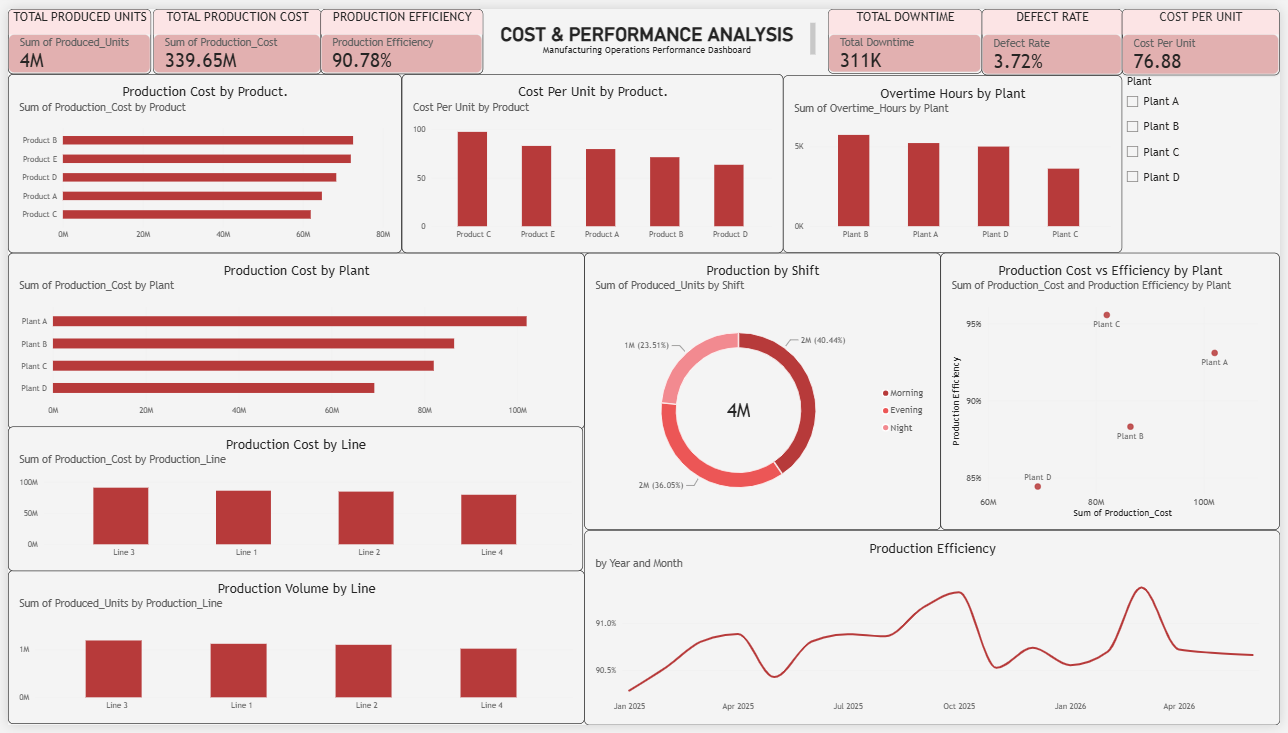

The dashboard page shown, as its layout file describes it:
{"tool":"powerbi","page":{"name":"Cost & Performance Analysis.","canvas":[1920,1080],"ordinal":1},"visuals":[{"type":"clusteredBarChart","title":"Production Cost by Plant","fields":{"Category":["manufacturing_operations_synthetic_5000_12vars.Plant"],"Y":["Sum(manufacturing_operations_synthetic_5000_12vars.Production_Cost)"]},"box":[0,368,870,266],"z":0},{"type":"clusteredBarChart","title":"Production Cost by Product.","fields":{"Category":["manufacturing_operations_synthetic_5000_12vars.Product"],"Y":["Sum(manufacturing_operations_synthetic_5000_12vars.Production_Cost)"]},"box":[0,98,594,270],"z":1000},{"type":"clusteredColumnChart","title":"Production Volume by Line","fields":{"Category":["manufacturing_operations_synthetic_5000_12vars.Production_Line"],"Y":["Sum(manufacturing_operations_synthetic_5000_12vars.Produced_Units)"]},"box":[0,848,870,232],"z":2000},{"type":"donutChart","title":"Production by Shift","fields":{"Category":["manufacturing_operations_synthetic_5000_12vars.Shift"],"Y":["Sum(manufacturing_operations_synthetic_5000_12vars.Produced_Units)"]},"box":[870,368,538,418],"z":3000},{"type":"lineChart","fields":{"Category":["manufacturing_operations_synthetic_5000_12vars.Date.Variation.Date Hierarchy.Year","manufacturing_operations_synthetic_5000_12vars.Date.Variation.Date Hierarchy.Month"],"Y":["manufacturing_operations_synthetic_5000_12vars.Production Efficiency"]},"box":[870,786,1050,294],"z":4000},{"type":"clusteredColumnChart","title":"Cost Per Unit by Product.","fields":{"Category":["manufacturing_operations_synthetic_5000_12vars.Product"],"Y":["manufacturing_operations_synthetic_5000_12vars.Cost Per Unit"]},"box":[594,98,576,270],"z":5000},{"type":"scatterChart","title":"Production Cost vs Efficiency by Plant","fields":{"Category":["manufacturing_operations_synthetic_5000_12vars.Plant"],"X":["Sum(manufacturing_operations_synthetic_5000_12vars.Production_Cost)"],"Y":["manufacturing_operations_synthetic_5000_12vars.Production Efficiency"]},"box":[1408,368,512,418],"z":7000},{"type":"clusteredColumnChart","title":"Overtime Hours by Plant","fields":{"Category":["manufacturing_operations_synthetic_5000_12vars.Plant"],"Y":["Sum(manufacturing_operations_synthetic_5000_12vars.Overtime_Hours)"]},"box":[1170,100,512,268],"z":8000},{"type":"clusteredColumnChart","title":"Production Cost by Line","fields":{"Category":["manufacturing_operations_synthetic_5000_12vars.Production_Line"],"Y":["Sum(manufacturing_operations_synthetic_5000_12vars.Production_Cost)"]},"box":[0,630,868,218],"z":9000},{"type":"textbox","box":[718,20,500,55.7],"z":10000},{"type":"cardVisual","title":"TOTAL PRODUCED UNITS","fields":{"Data":["Sum(manufacturing_operations_synthetic_5000_12vars.Produced_Units)"]},"box":[0,0,216,98],"z":11000},{"type":"cardVisual","title":"TOTAL PRODUCTION COST","fields":{"Data":["Sum(manufacturing_operations_synthetic_5000_12vars.Production_Cost)"]},"box":[218,0,254,98],"z":12000},{"type":"cardVisual","title":"PRODUCTION EFFICIENCY","fields":{"Data":["manufacturing_operations_synthetic_5000_12vars.Production Efficiency"]},"box":[472,0,245.7,98.6],"z":13000},{"type":"cardVisual","title":"TOTAL DOWNTIME","fields":{"Data":["manufacturing_operations_synthetic_5000_12vars.Total Downtime"]},"box":[1238,0,232.5,97.5],"z":14000},{"type":"cardVisual","title":"DEFECT RATE","fields":{"Data":["manufacturing_operations_synthetic_5000_12vars.Defect Rate"]},"box":[1470,0,212.5,100],"z":15000},{"type":"cardVisual","title":"COST PER UNIT","fields":{"Data":["manufacturing_operations_synthetic_5000_12vars.Cost Per Unit"]},"box":[1682,0,238,100],"z":16000},{"type":"slicer","fields":{"Values":["manufacturing_operations_synthetic_5000_12vars.Plant"]},"box":[1682,100,238,268],"z":16001}]}

Visuals, with their boxes in screenshot pixels (x1, y1, x2, y2), scaled from the page's 1920x1080 canvas onto the 1288x733 screenshot:
"Production Cost by Plant" clusteredBarChart: rect(0, 250, 584, 430)
"Production Cost by Product." clusteredBarChart: rect(0, 67, 398, 250)
"Production Volume by Line" clusteredColumnChart: rect(0, 576, 584, 732)
"Production by Shift" donutChart: rect(584, 250, 945, 533)
lineChart - manufacturing_operations_synthetic_5000_12vars.Date.Variation.Date Hierarchy.Year x manufacturing_operations_synthetic_5000_12vars.Date.Variation.Date Hierarchy.Month: rect(584, 533, 1287, 732)
"Cost Per Unit by Product." clusteredColumnChart: rect(398, 67, 785, 250)
"Production Cost vs Efficiency by Plant" scatterChart: rect(945, 250, 1287, 533)
"Overtime Hours by Plant" clusteredColumnChart: rect(785, 68, 1128, 250)
"Production Cost by Line" clusteredColumnChart: rect(0, 428, 582, 576)
textbox: rect(482, 14, 817, 51)
"TOTAL PRODUCED UNITS" cardVisual: rect(0, 0, 145, 67)
"TOTAL PRODUCTION COST" cardVisual: rect(146, 0, 317, 67)
"PRODUCTION EFFICIENCY" cardVisual: rect(317, 0, 481, 67)
"TOTAL DOWNTIME" cardVisual: rect(830, 0, 986, 66)
"DEFECT RATE" cardVisual: rect(986, 0, 1129, 68)
"COST PER UNIT" cardVisual: rect(1128, 0, 1287, 68)
slicer - manufacturing_operations_synthetic_5000_12vars.Plant: rect(1128, 68, 1287, 250)
